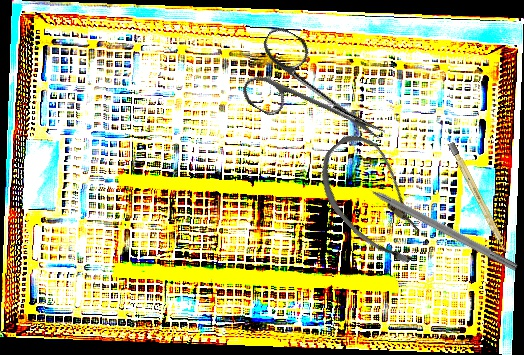Cannula: (302, 124, 449, 276)
Hook Surgical: (350, 174, 520, 273)
Iris Scissors: (233, 23, 405, 170)
Scalpel Handle: (447, 141, 511, 256)
